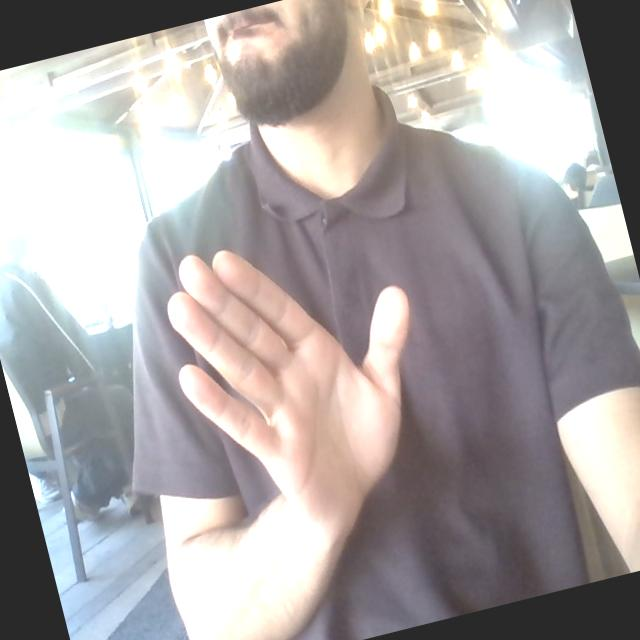Hand: (168, 252, 409, 535)
